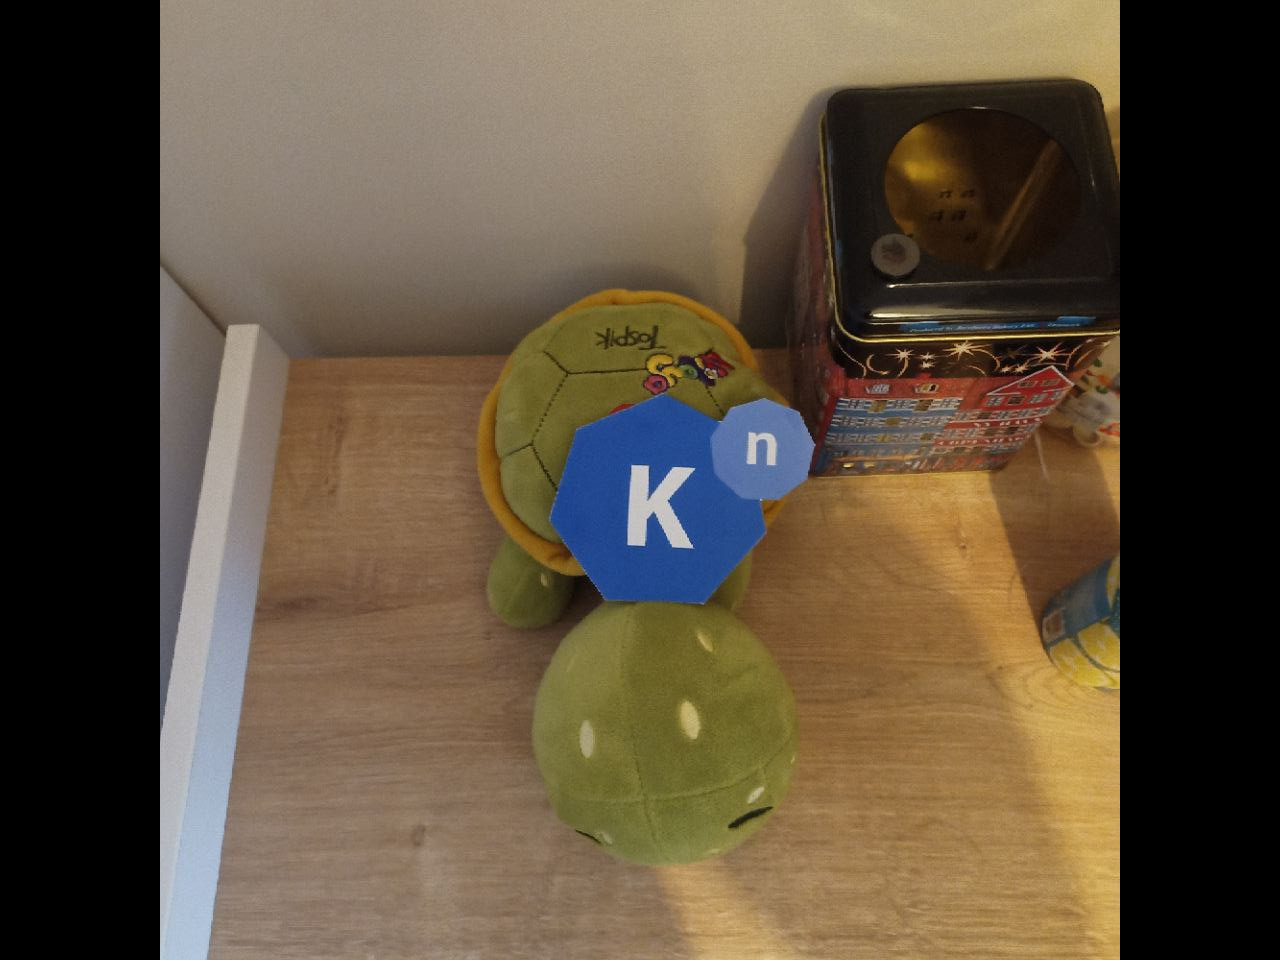knative: (550, 398, 814, 605)
